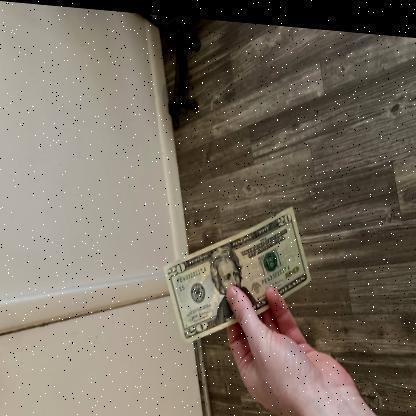twenty-front: (163, 198, 312, 342)
